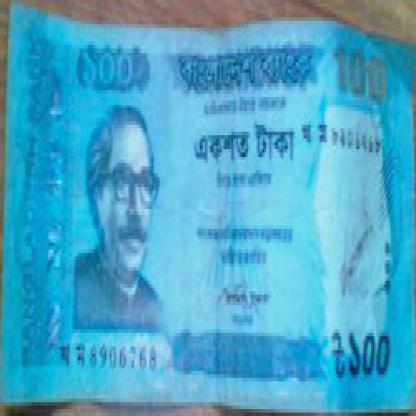one hundred taka: (333, 38, 389, 108), (344, 319, 396, 385), (75, 42, 140, 90)
